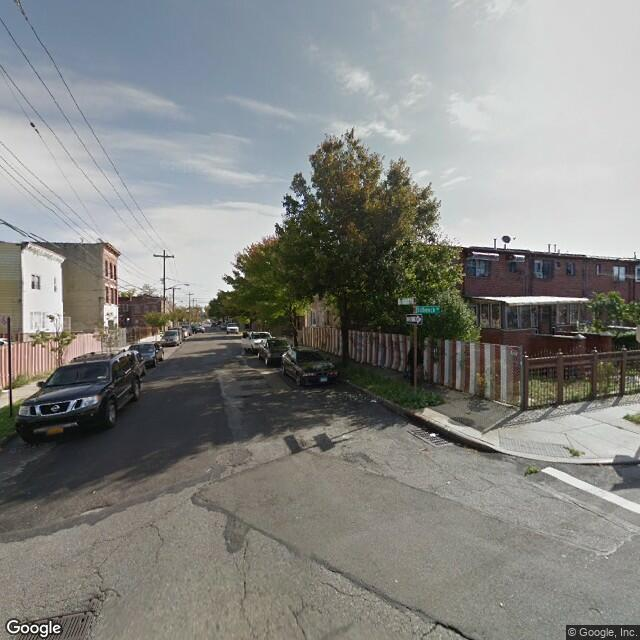litter: (425, 429, 436, 441), (366, 395, 376, 403), (32, 501, 38, 510), (88, 487, 94, 493), (446, 477, 451, 484), (498, 602, 503, 607), (394, 576, 398, 579)
